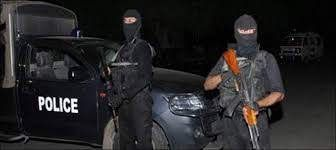gun: (218, 49, 265, 145), (100, 64, 126, 127)
uniform: (215, 45, 273, 145), (104, 40, 154, 140)
